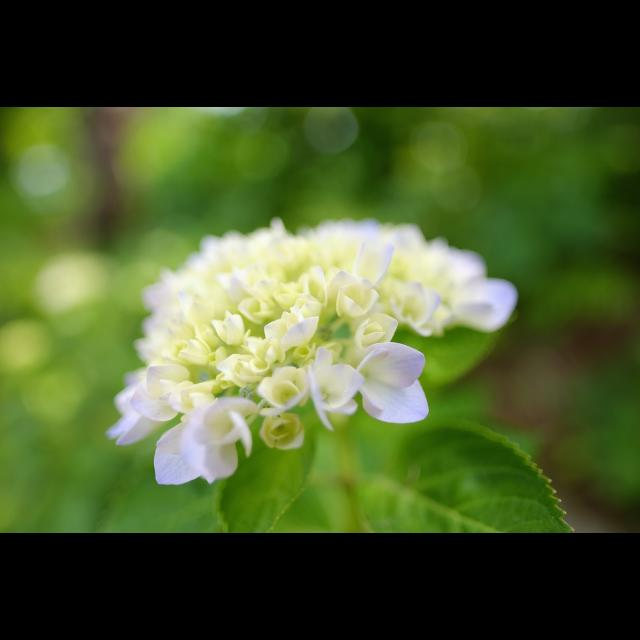Flower: (103, 208, 523, 487)
